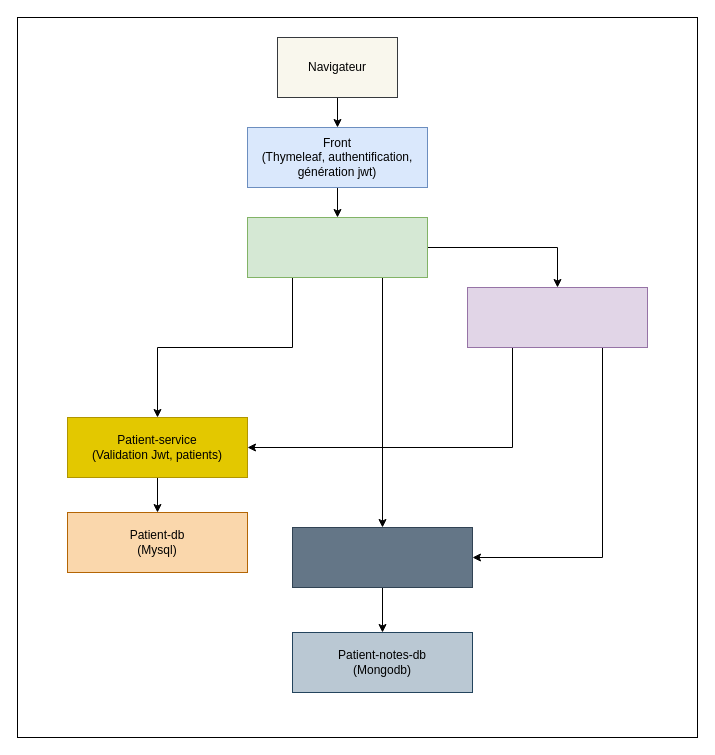
Image size: 715x755. Some labels were removed from this diagram. The shapes that lost their labels are listed below. From the top down, each one's centre as x and y in pixels, then its label:
[337,247]: Gateway (Validation Jwt, Routage)
[557,317]: Patient-diabetes-risk-service (Validation Jwt, Calcul diabète)
[382,557]: Patient-notes-service (Validation Jwt, notes)
